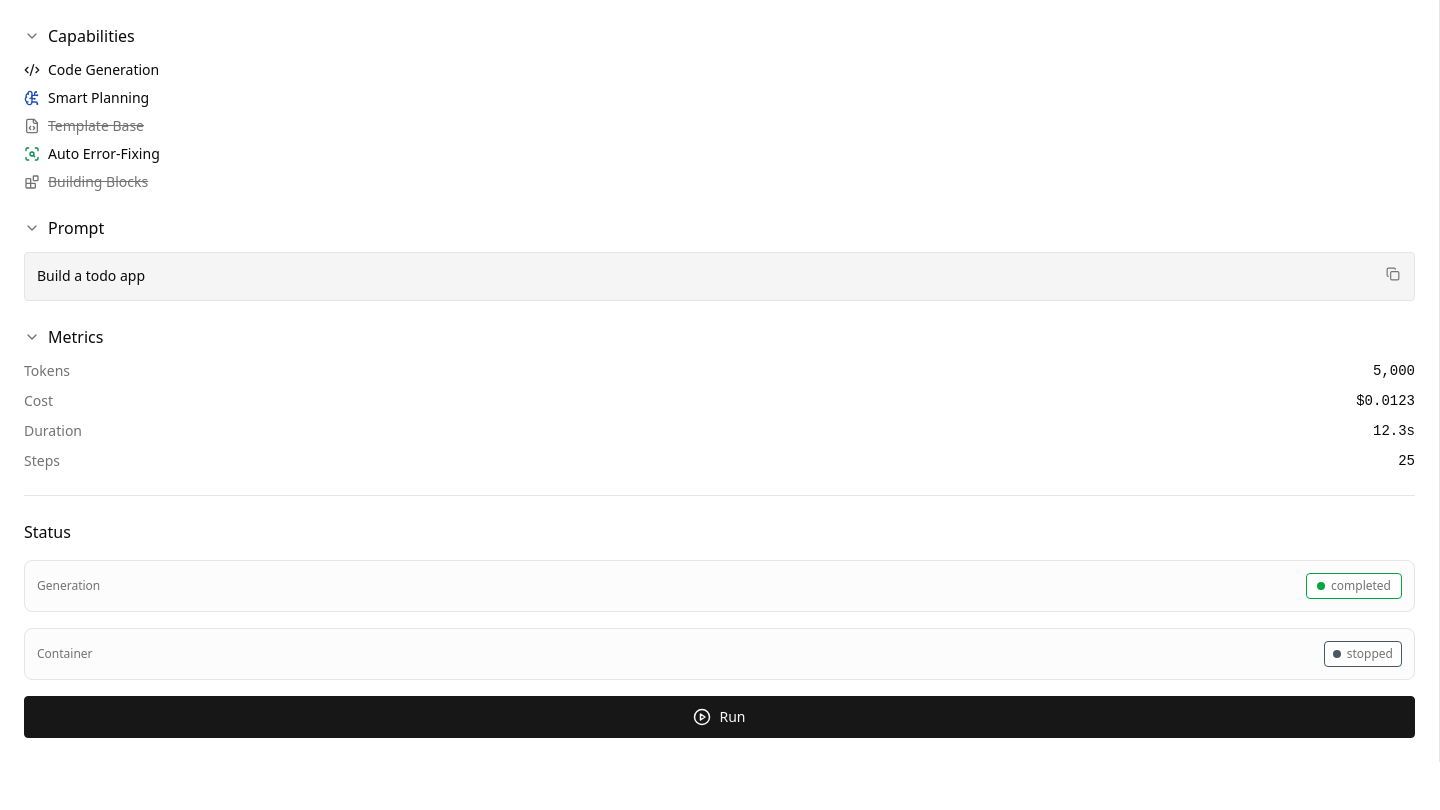
Test case: SessionSidebar › Collapsible Sections › can collapse metrics section
The image size is (1440, 810).
Expected: the text "5,000" is shown, top-left (1373, 361), bottom-right (1415, 381)
Note: Click to collapse
Click the button with aria-label "toggle metrics": (76,337) top-left (24, 325), bottom-right (1415, 349)
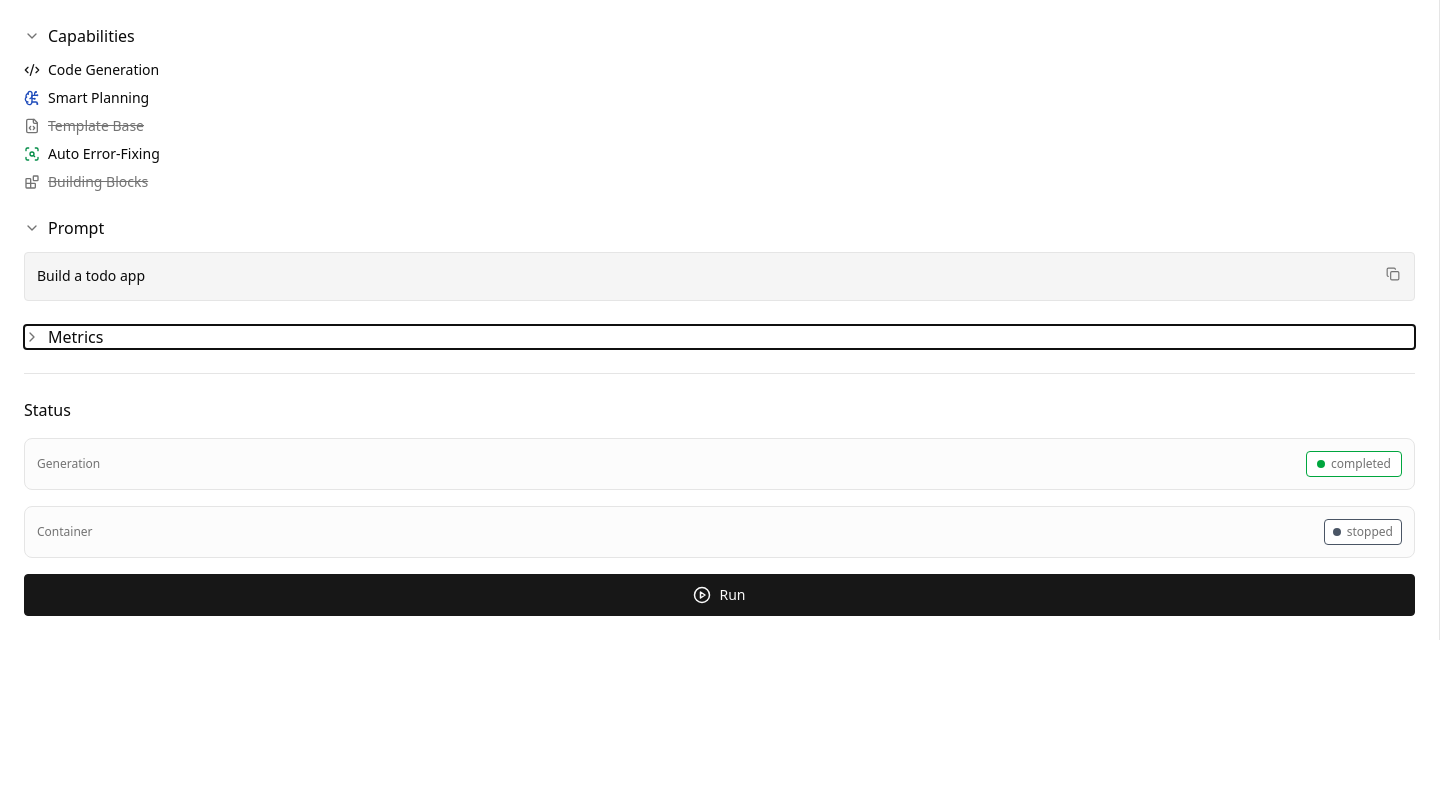
Result: the text "5,000" is gone
